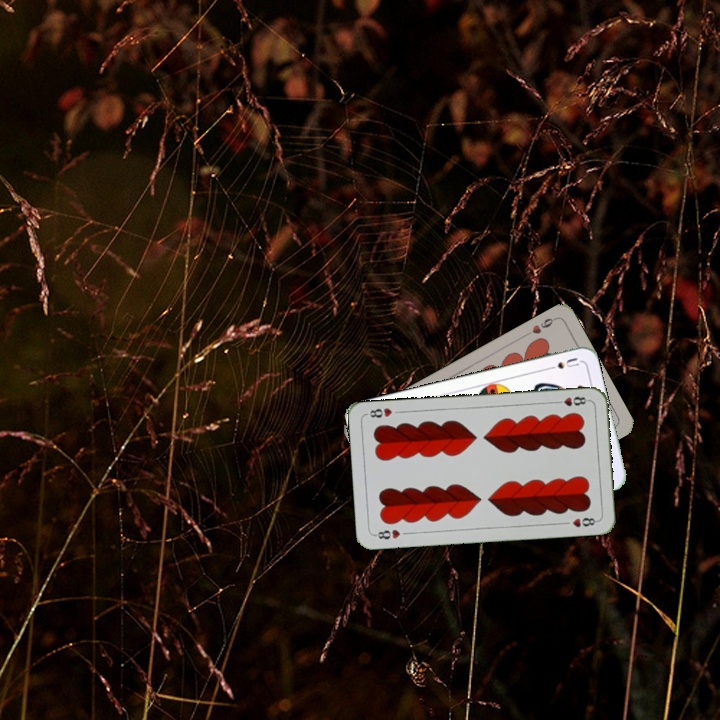H8: (551, 393, 591, 409), (371, 525, 403, 542)
H9: (522, 314, 559, 339)
SU: (542, 353, 582, 373)
